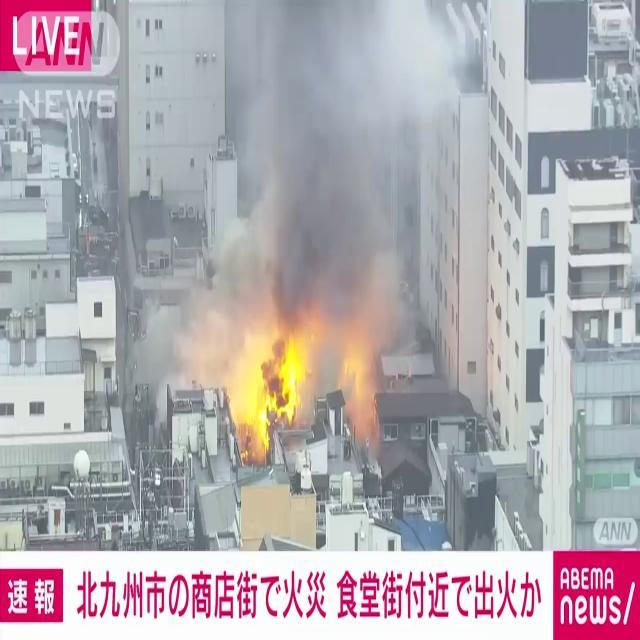Fire: (225, 317, 308, 455)
Smoke: (211, 1, 450, 332)
